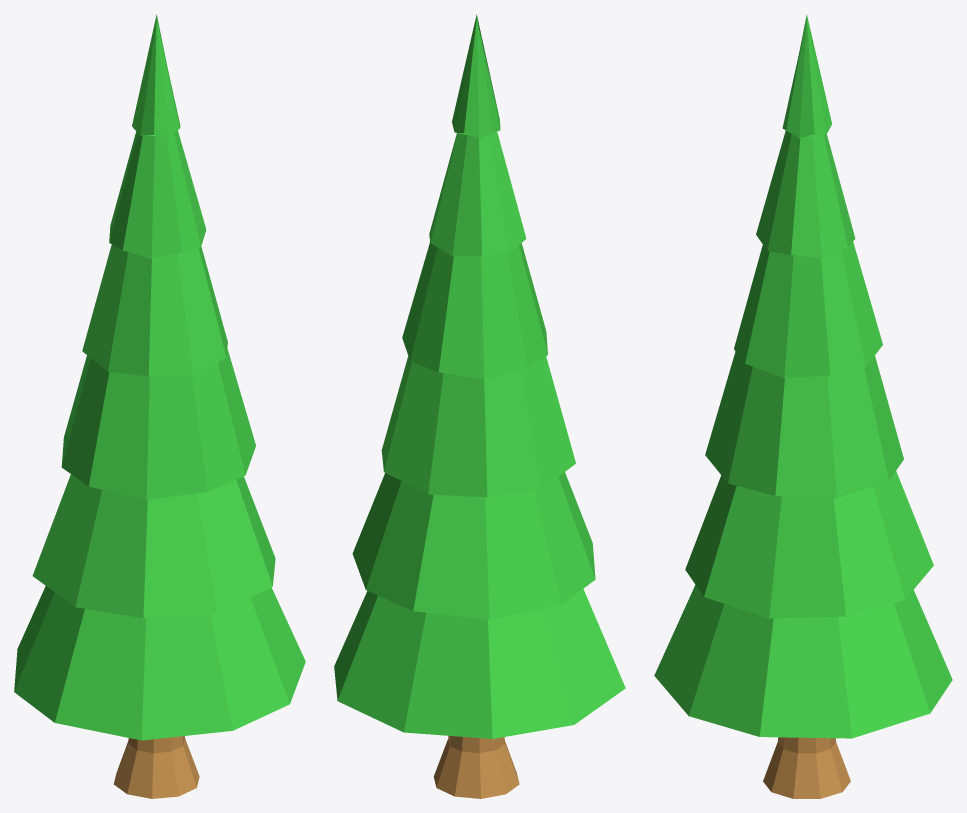
Rendered from çam1.fbx.
The picture shows the model from 3 angles, left to right: view 1: azimuth 30°, elevation 25°; view 2: azimuth 150°, elevation 25°; view 3: azimuth 270°, elevation 25°; orthographic projection.
Visible parts, largest first — view 1: Cylinder; view 2: Cylinder; view 3: Cylinder.
Boxes of the visible parts, x1=… form: Cylinder: x1=14, y1=14, x2=305, y2=798; Cylinder: x1=334, y1=14, x2=625, y2=798; Cylinder: x1=654, y1=14, x2=952, y2=798.
Size of the model in its own units: 453 by 1322 by 466.
